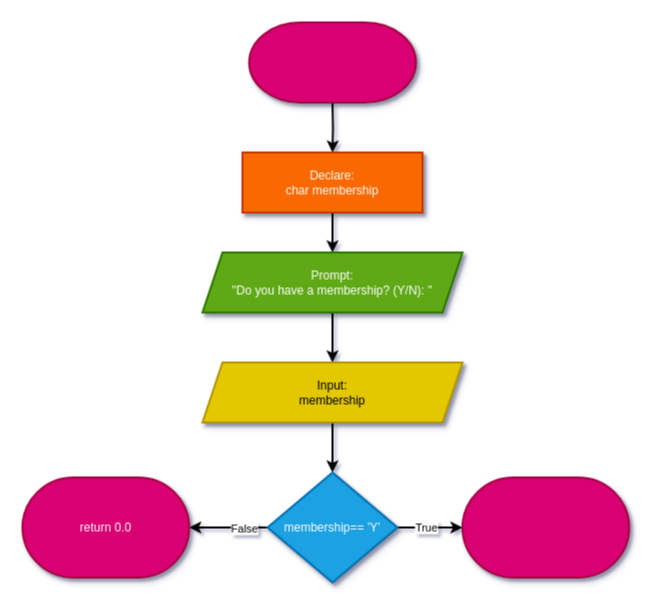
This 659x613 diagram has some shape labels left out. The centre of each missing label's shape, as x and y in pixels:
return 0.1: pixel 546 528
setMembershipDiscount(): pixel 333 63
